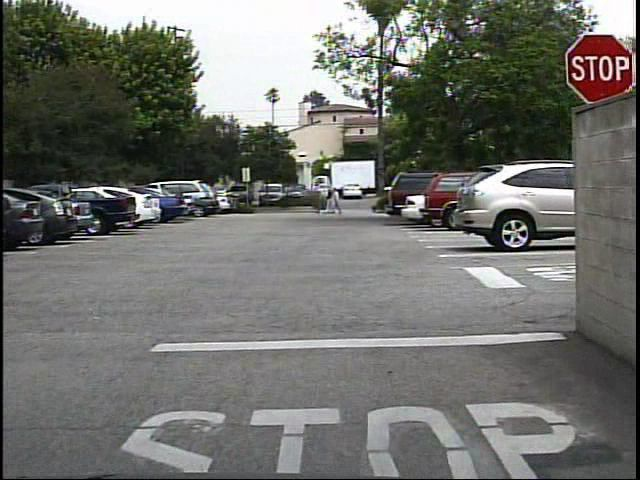person: (330, 186, 347, 216), (314, 186, 329, 215), (324, 186, 337, 217)
